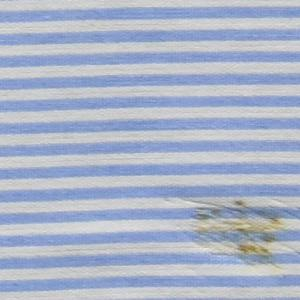Damage: (163, 194, 300, 277)
Oil Stain: (193, 199, 286, 273)
